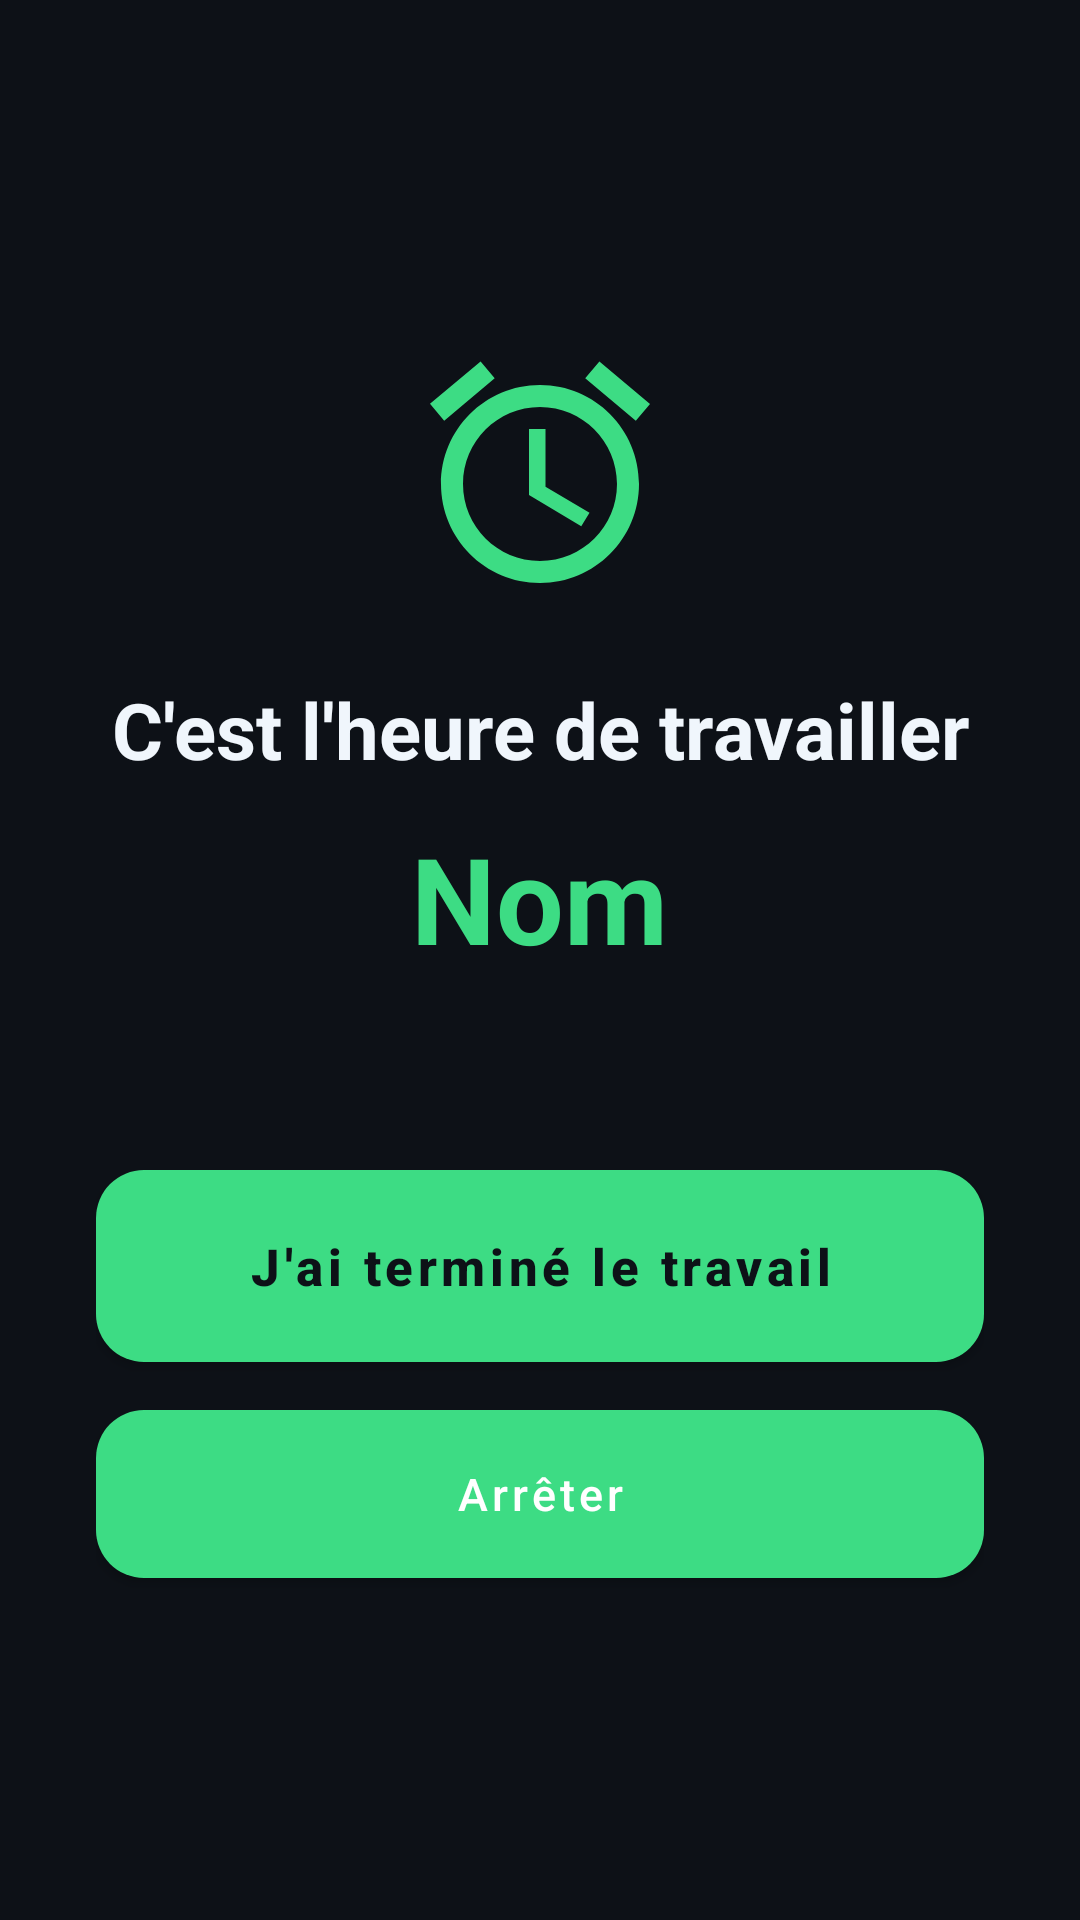

Icon bounding boxes for this 1080x1920 phone screenshot, format (x1, y1, x2, y2):
alarm: (430, 361, 650, 583)
